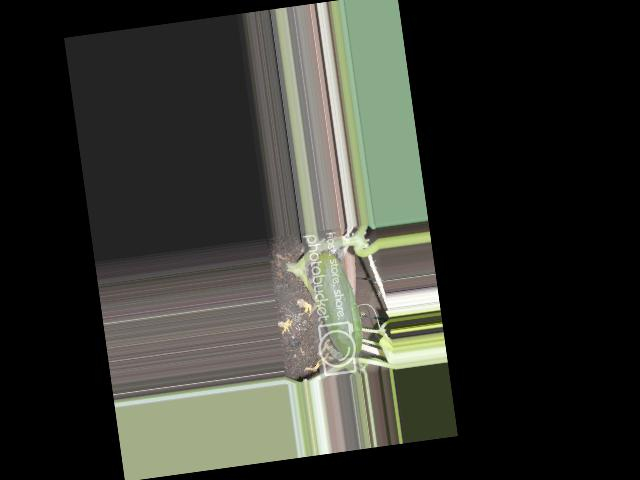cucumber: (311, 249, 365, 360)
